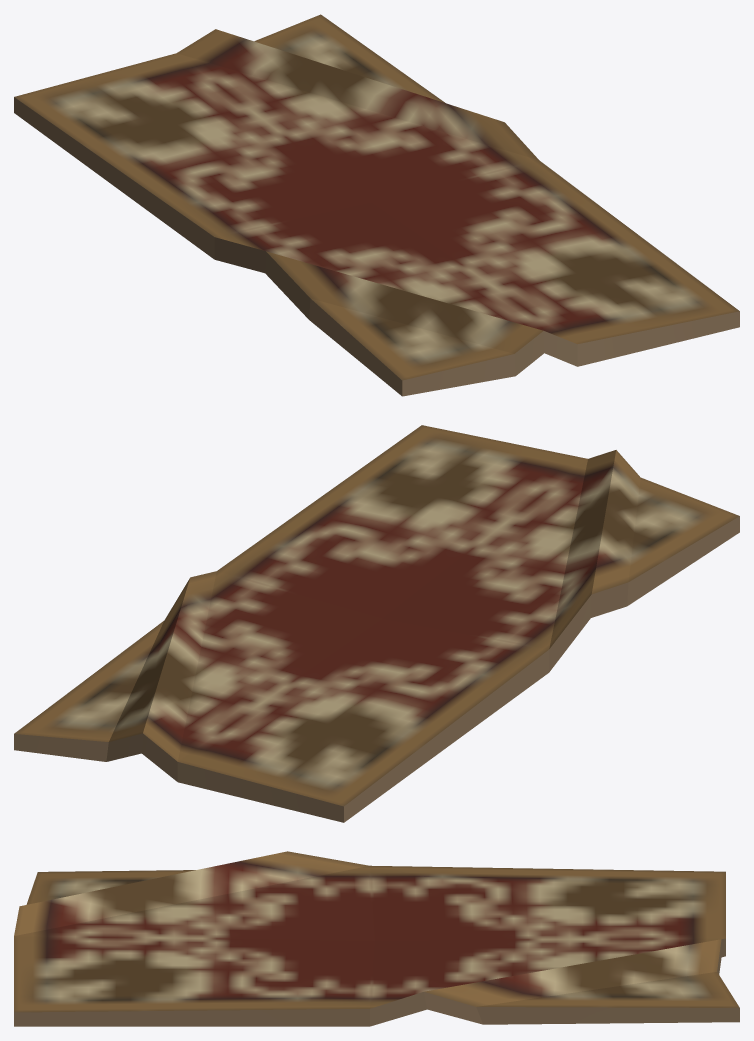
File: SM_Prop_Rug_30.fbx
3 renders of one model, top to bottom at view 1: azimuth 30°, elevation 25°; view 2: azimuth 150°, elevation 25°; view 3: azimuth 270°, elevation 25°, orthographic. The views are drawn at different scales.
Visible parts, largest first — view 1: SM_Prop_Rug_30; view 2: SM_Prop_Rug_30; view 3: SM_Prop_Rug_30.
Boxes of the visible parts, <box> form: SM_Prop_Rug_30: <box>14,14,739,396</box>; SM_Prop_Rug_30: <box>14,425,739,822</box>; SM_Prop_Rug_30: <box>14,851,739,1026</box>.
Size of the model in its own units: 71.15 by 9.08 by 155.
